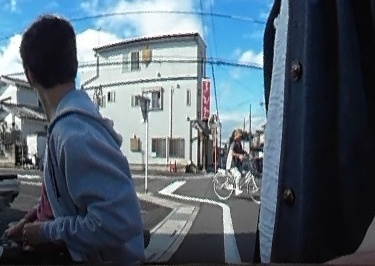person: (18, 12, 139, 266), (229, 128, 248, 192)
